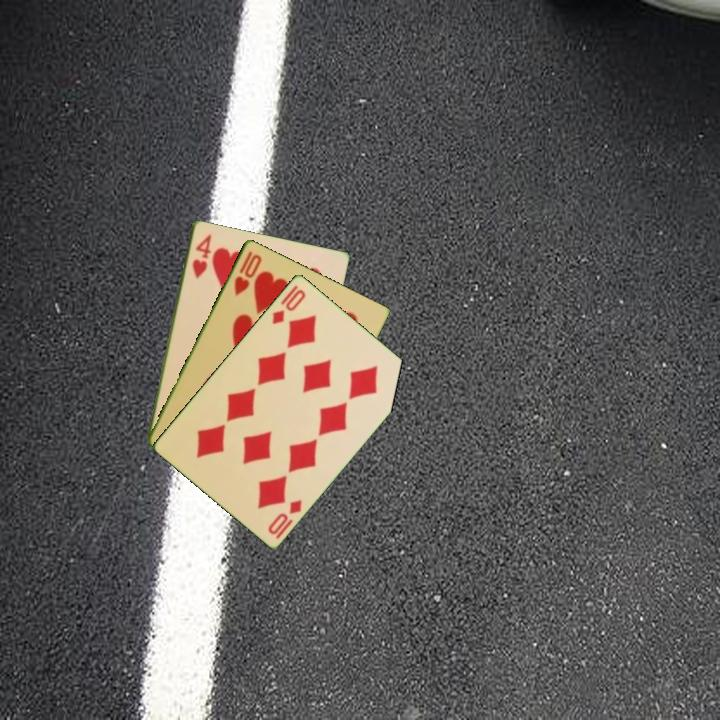10d: (264, 495, 305, 542), (268, 281, 309, 327)
10h: (230, 247, 265, 298)
4h: (188, 230, 214, 281)
